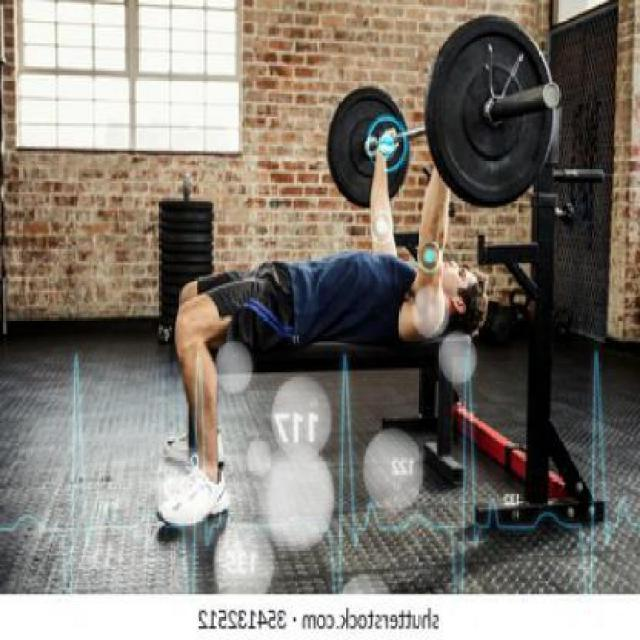Barbell: (537, 76, 568, 121)
